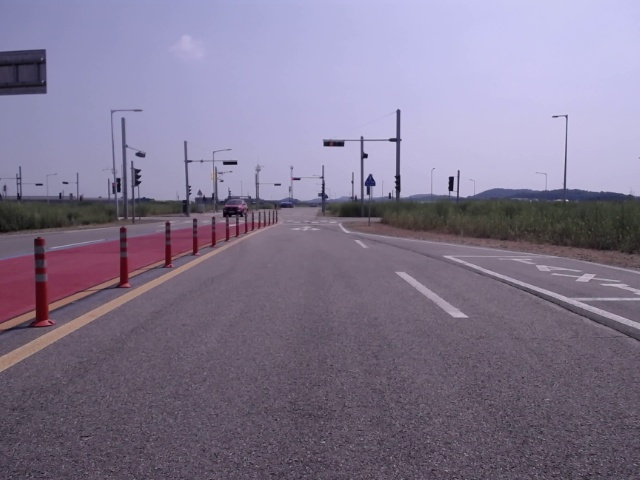orange_4: (321, 138, 346, 148)
